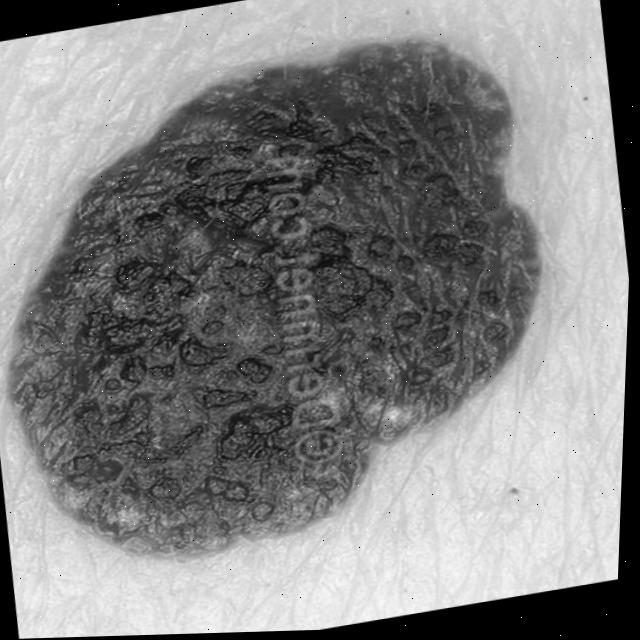Eczema: (20, 43, 520, 541)
